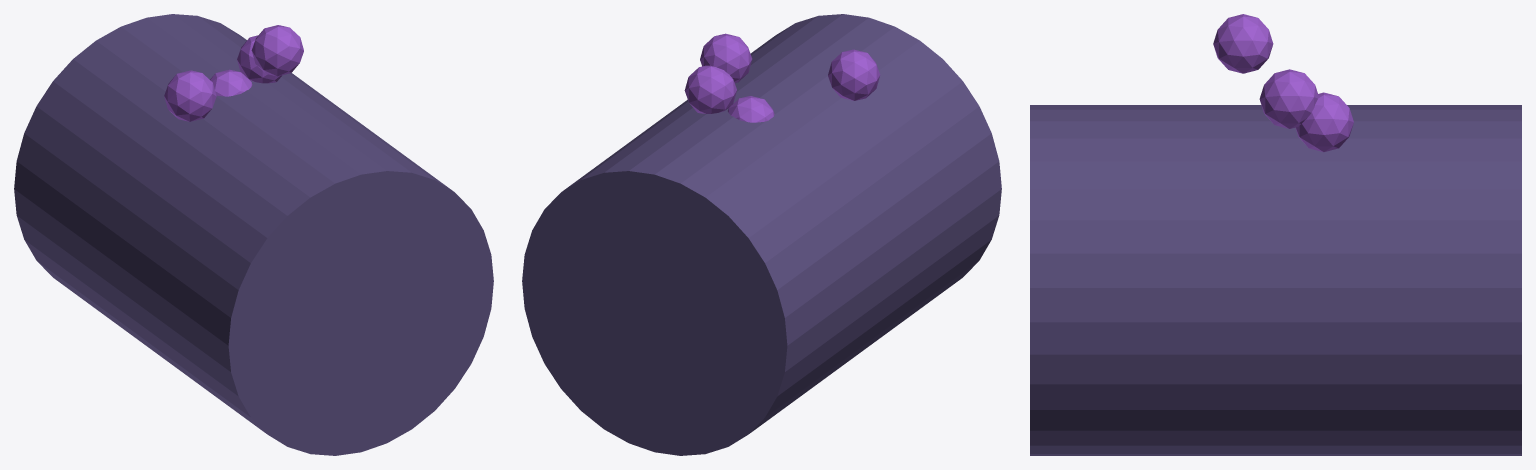
Rendered from final_spawn.glb.
3 renders of one model, left to right at view 1: azimuth 30°, elevation 25°; view 2: azimuth 150°, elevation 25°; view 3: azimuth 270°, elevation 25°, orthographic. The views are drawn at different scales.
Visible parts, largest first — view 1: geometry_0; view 2: geometry_0; view 3: geometry_0.
Boxes of the visible parts, x1=… form: geometry_0: x1=14, y1=14, x2=493, y2=455; geometry_0: x1=522, y1=14, x2=1001, y2=455; geometry_0: x1=1030, y1=14, x2=1521, y2=455.
Size of the model in its own units: 0.7 by 0.8452 by 0.98.
